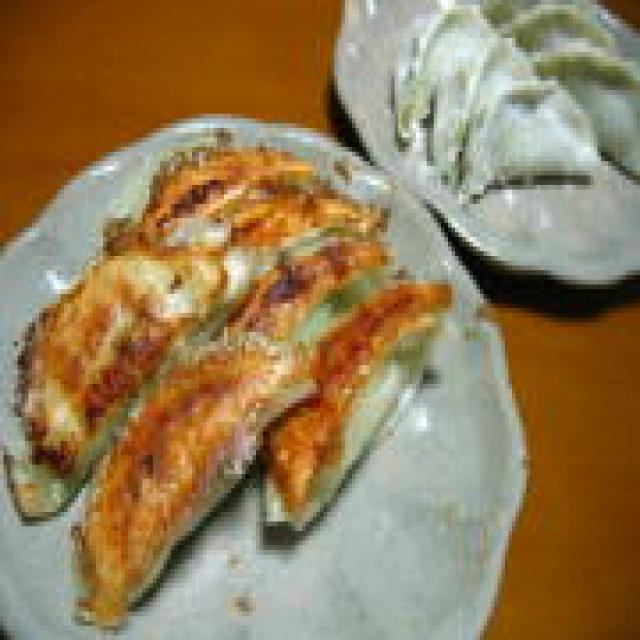带馅早点: (7, 5, 626, 597)
